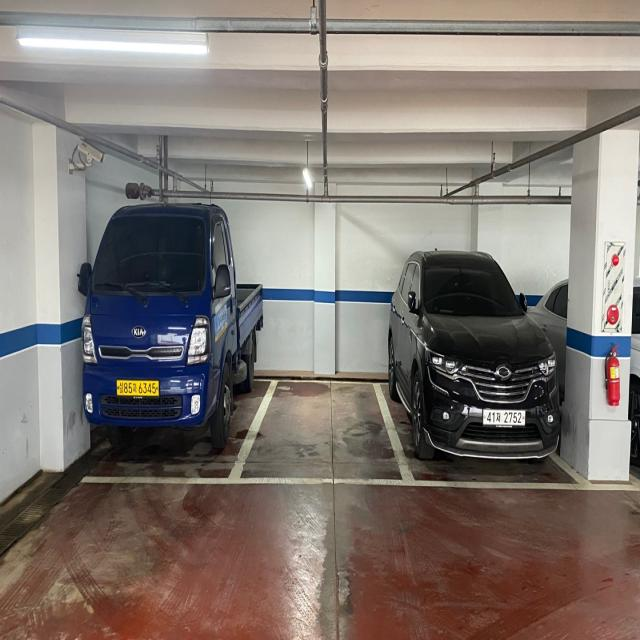empty: (226, 378, 419, 487)
occupied: (81, 197, 243, 448), (387, 246, 564, 459)
